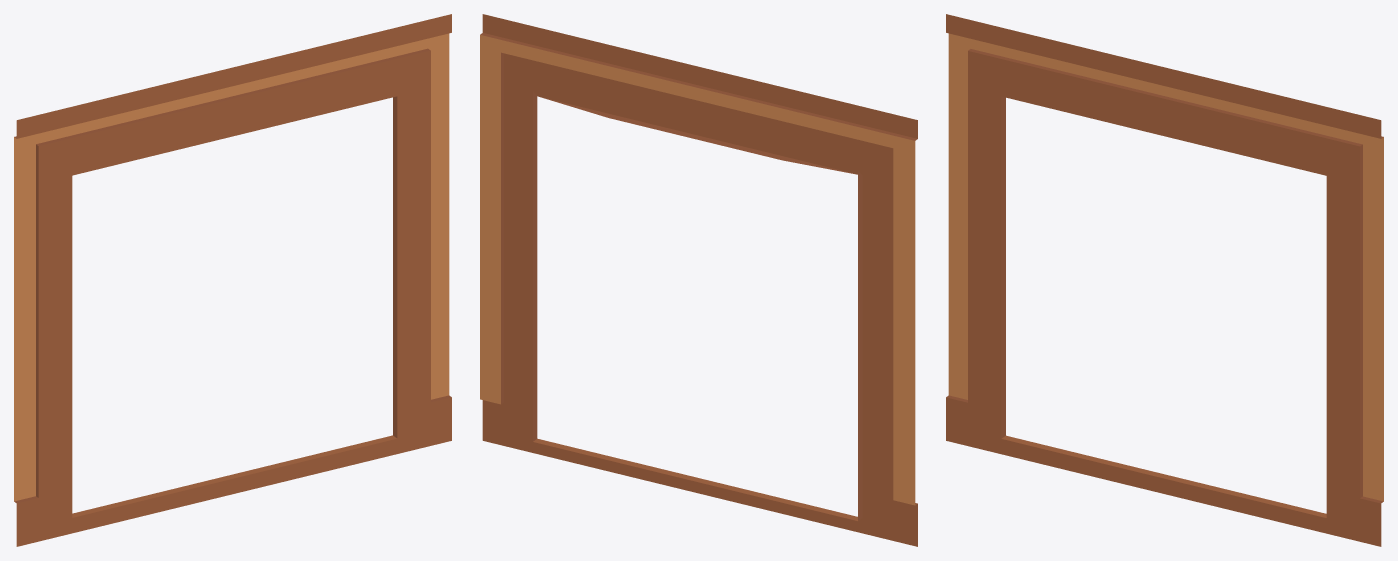
File: WallDoor4.glb
The picture shows the model from 3 angles, left to right: view 1: azimuth 30°, elevation 25°; view 2: azimuth 150°, elevation 25°; view 3: azimuth 330°, elevation 25°; orthographic projection.
Parts seen in each view (by area): view 1: SI_Env_Wall_Door_Large_05; view 2: SI_Env_Wall_Door_Large_05; view 3: SI_Env_Wall_Door_Large_05.
Part boxes in pixels (x1,y1,x2,y2): SI_Env_Wall_Door_Large_05: (14,14,451,546); SI_Env_Wall_Door_Large_05: (480,14,917,546); SI_Env_Wall_Door_Large_05: (946,14,1383,546).
Size of the model in its own units: 0.05 by 0.0469 by 0.000885.
1 material, 1 textured.
